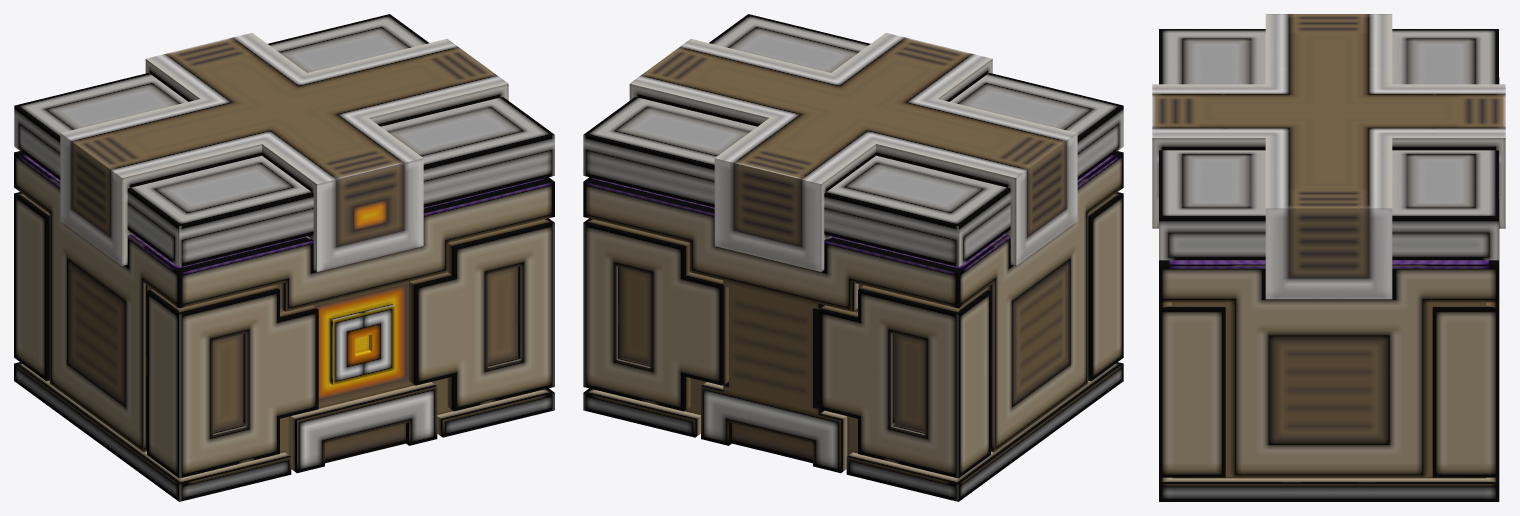
File: magic_chests_chest_1.fbx
The picture shows the model from 3 angles, left to right: view 1: azimuth 30°, elevation 25°; view 2: azimuth 150°, elevation 25°; view 3: azimuth 270°, elevation 25°; orthographic projection. The views are drawn at different scales.
Visible parts, largest first — view 1: magic_chests_chest_1, lid_event_chest_1_mesh; view 2: magic_chests_chest_1, lid_event_chest_1_mesh; view 3: lid_event_chest_1_mesh, magic_chests_chest_1.
Part boxes in pixels (x1=…): magic_chests_chest_1: x1=14, y1=151, x2=554, y2=501; lid_event_chest_1_mesh: x1=14, y1=14, x2=554, y2=271; magic_chests_chest_1: x1=583, y1=151, x2=1123, y2=501; lid_event_chest_1_mesh: x1=583, y1=14, x2=1123, y2=271; lid_event_chest_1_mesh: x1=1152, y1=14, x2=1505, y2=299; magic_chests_chest_1: x1=1159, y1=77, x2=1499, y2=501.
Size of the model in its own units: 3.63 by 2.58 by 2.79.
